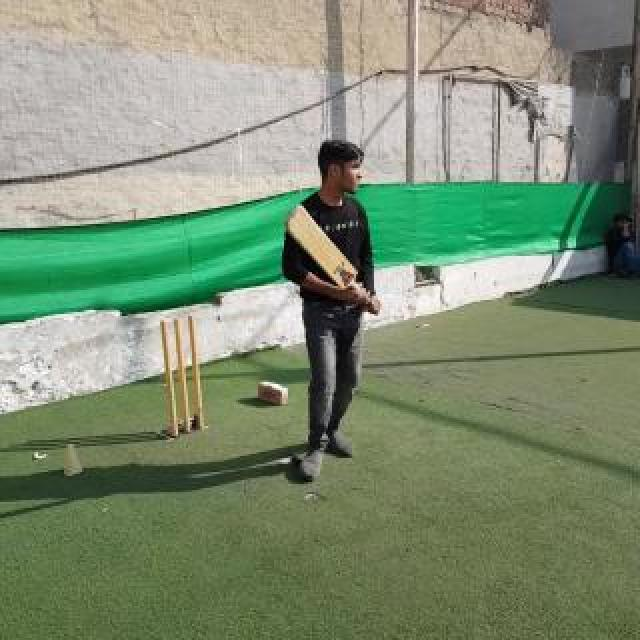bat: (284, 202, 380, 312)
